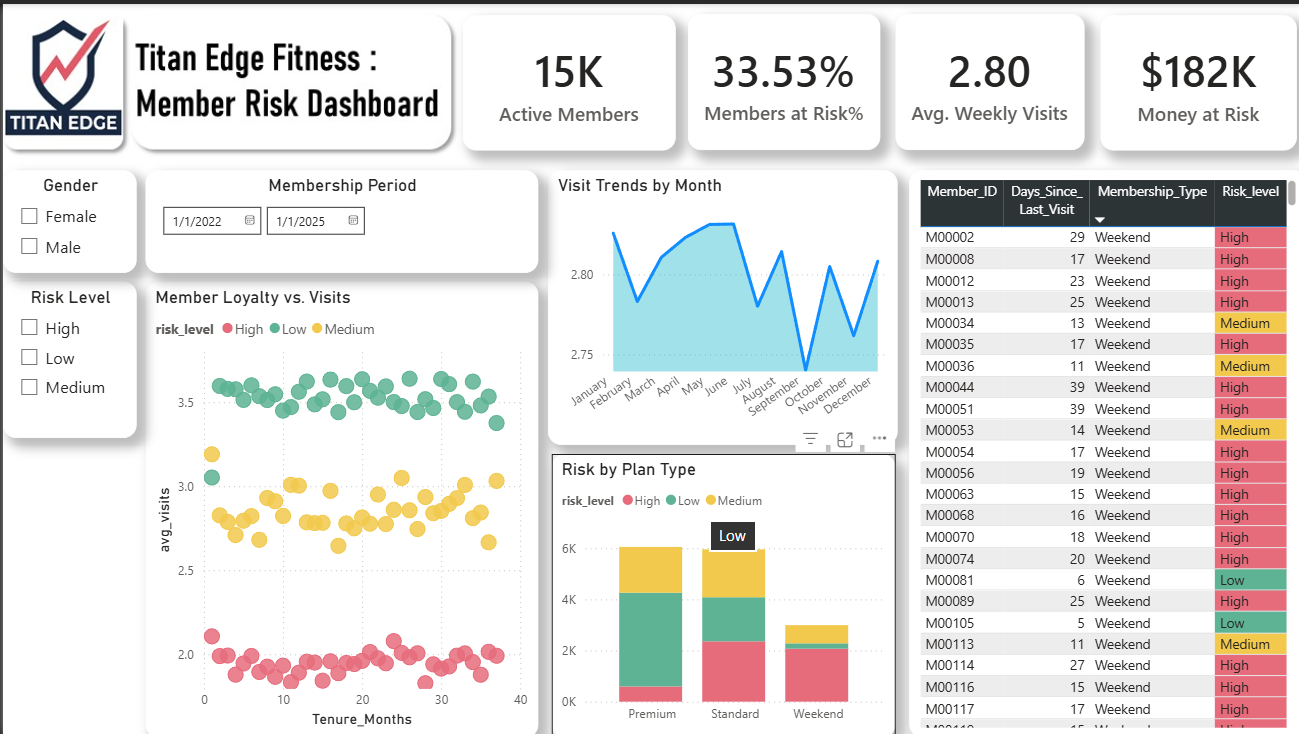

This screenshot's page, from the dashboard's own definition file:
{"tool":"powerbi","page":{"name":"Page 1","canvas":[1280,720],"ordinal":0},"visuals":[{"type":"card","title":"Active Members","fields":{"Values":["Gym_Member_Dataset.total_members"]},"box":[451.5,11,208.6,132.5],"z":0},{"type":"card","fields":{"Values":["Gym_Member_Dataset.high_risk%"]},"box":[672.4,9.8,189,133.7],"z":1000},{"type":"card","fields":{"Values":["Gym_Member_Dataset.avg_visits"]},"box":[876.1,9.8,185.3,133.7],"z":2000},{"type":"card","fields":{"Values":["Gym_Member_Dataset.revenue_at_risk"]},"box":[1077.3,11,192.6,132.5],"z":3000},{"type":"scatterChart","title":"Member Loyalty vs. Visits","fields":{"X":["Gym_Member_Dataset.Tenure_Months"],"Y":["Gym_Member_Dataset.avg_visits"],"Series":["Gym_Member_Dataset.risk_level"]},"box":[139.9,272.4,385.3,447.9],"z":4000},{"type":"lineChart","title":"Visit Trends by Month","fields":{"Category":["Gym_Member_Dataset.Join_Date.Variation.Date Hierarchy.Month"],"Y":["Avg(Gym_Member_Dataset.Avg_Visits_Per_Week)"]},"box":[535,163.2,343.6,269.9],"z":5000},{"type":"columnChart","title":"Risk by Plan Type","fields":{"Category":["Gym_Member_Dataset.Membership_Type"],"Y":["Gym_Member_Dataset.total_members"],"Series":["Gym_Member_Dataset.risk_level"]},"box":[538.7,441.7,337.4,278.5],"z":6000},{"type":"tableEx","fields":{"Values":["Gym_Member_Dataset.Member_ID","Gym_Member_Dataset.Days_Since_Last_Visit","Gym_Member_Dataset.Membership_Type","Gym_Member_Dataset.risk_level"]},"box":[889.6,163.2,390.2,557.1],"z":7000},{"type":"slicer","title":"Risk Level","fields":{"Values":["Gym_Member_Dataset.risk_level"]},"box":[0,272.4,131.3,153.4],"z":8000},{"type":"slicer","title":"Gender","fields":{"Values":["Gym_Member_Dataset.Gender"]},"box":[0,163.2,131.3,100.6],"z":9000},{"type":"slicer","title":"Membership Period","fields":{"Values":["Gym_Member_Dataset.Join_Date"]},"box":[139.9,163.2,385.3,100.6],"z":10000}]}

Visuals, with their boxes in screenshot pixels (x1, y1, x2, y2), scaled from the page's 1280x720 canvas onto the 1299x734 screenshot:
"Active Members" card: [x1=458, y1=11, x2=670, y2=146]
card - Gym_Member_Dataset.high_risk%: [x1=682, y1=10, x2=874, y2=146]
card - Gym_Member_Dataset.avg_visits: [x1=889, y1=10, x2=1077, y2=146]
card - Gym_Member_Dataset.revenue_at_risk: [x1=1093, y1=11, x2=1289, y2=146]
"Member Loyalty vs. Visits" scatterChart: [x1=142, y1=278, x2=533, y2=733]
"Visit Trends by Month" lineChart: [x1=543, y1=166, x2=892, y2=442]
"Risk by Plan Type" columnChart: [x1=547, y1=450, x2=889, y2=733]
tableEx - Gym_Member_Dataset.Member_ID x Gym_Member_Dataset.Days_Since_Last_Visit: [x1=903, y1=166, x2=1298, y2=733]
"Risk Level" slicer: [x1=0, y1=278, x2=133, y2=434]
"Gender" slicer: [x1=0, y1=166, x2=133, y2=269]
"Membership Period" slicer: [x1=142, y1=166, x2=533, y2=269]
